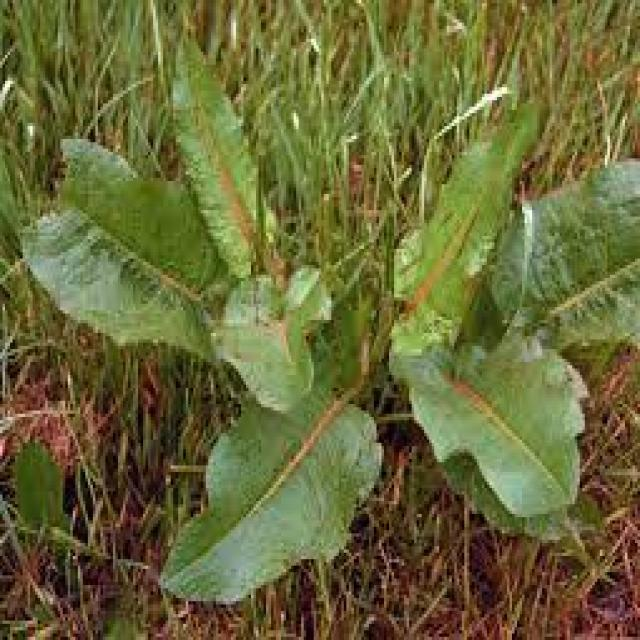organic waste: (20, 42, 640, 640)
